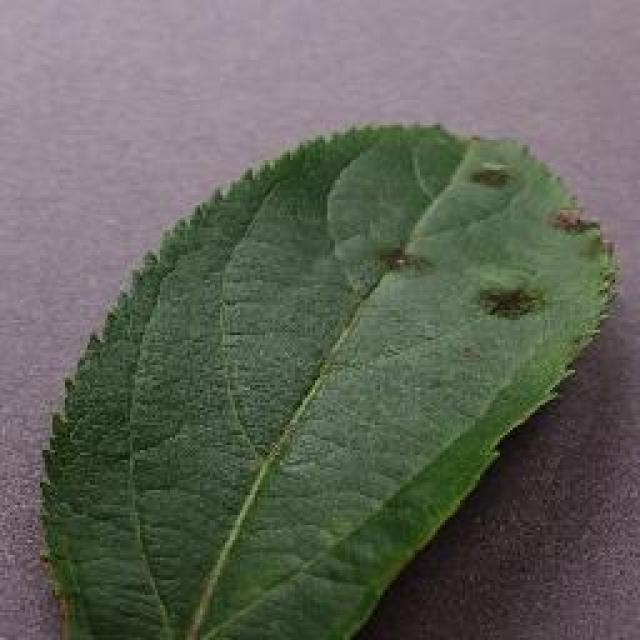apple scab disease: (35, 118, 620, 638)
